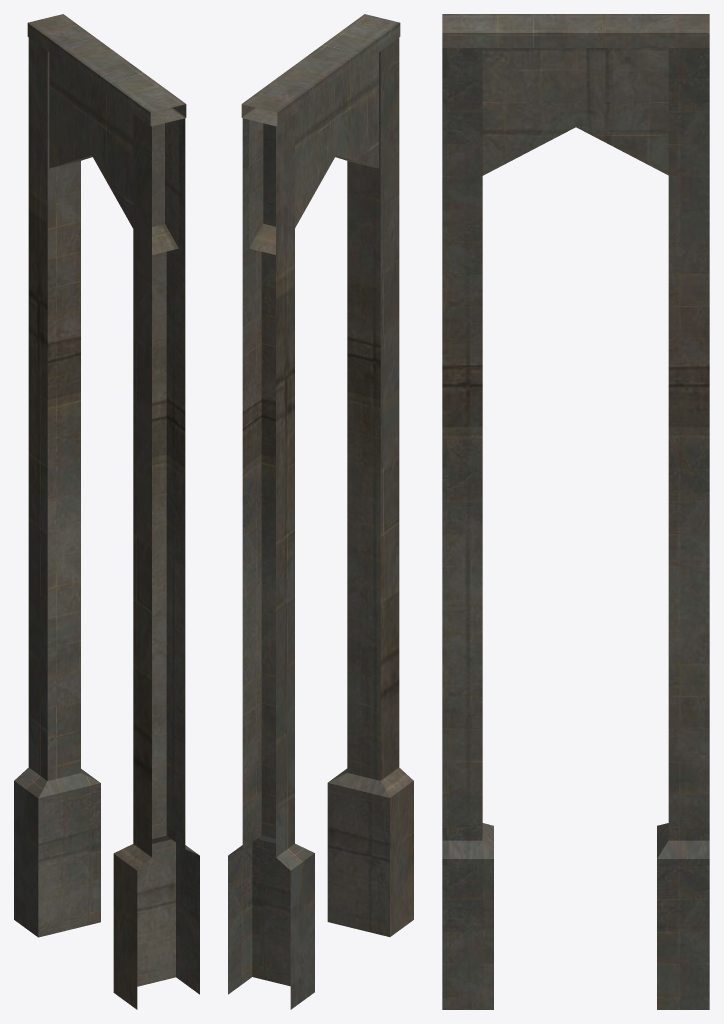
The model's file is Bridge_Holder.fbx.
The picture shows the model from 3 angles, left to right: view 1: azimuth 30°, elevation 25°; view 2: azimuth 150°, elevation 25°; view 3: azimuth 270°, elevation 25°; orthographic projection. The views are drawn at different scales.
Parts seen in each view (by area): view 1: Cube.001; view 2: Cube.001; view 3: Cube.001.
Boxes of the visible parts, box(x1,y1,x2,y2) form: Cube.001: box(14, 14, 199, 1009); Cube.001: box(228, 14, 413, 1009); Cube.001: box(442, 14, 709, 1009).
Bounding box in the file's own units: 206 × 2808 × 701.
